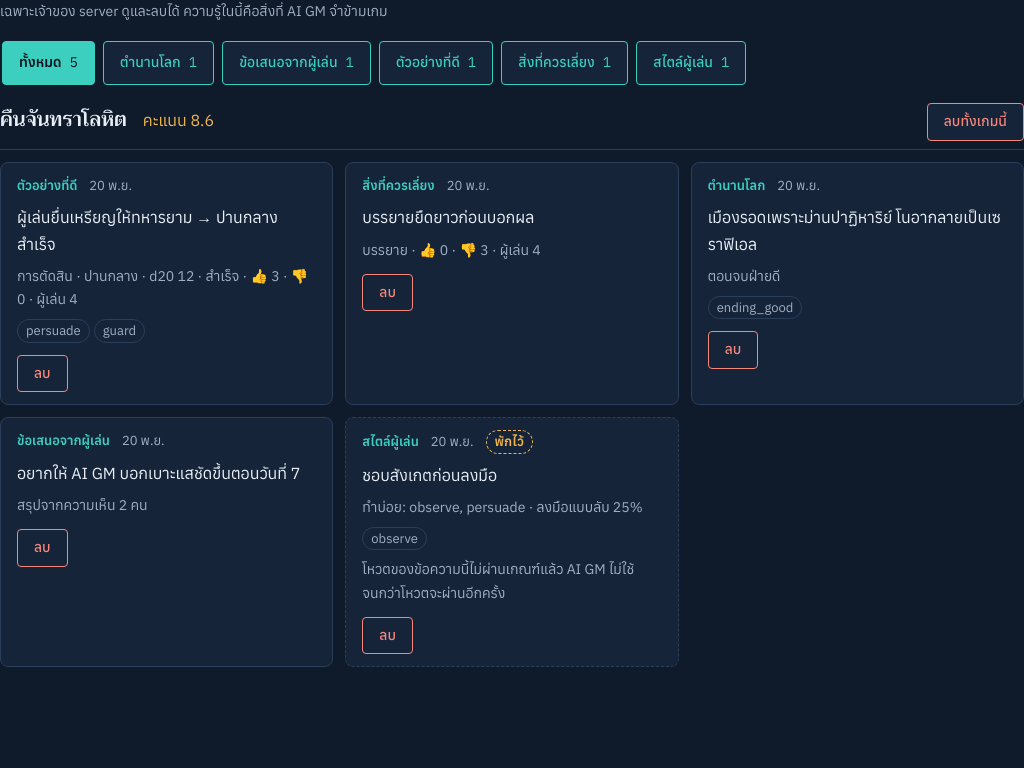
it: GEN-084 Learning library › C3: deleting one entry asks first, then deletes and shows what the server has left
Click the button "ลบ" below "guard": (42, 373) [17,354,68,392]
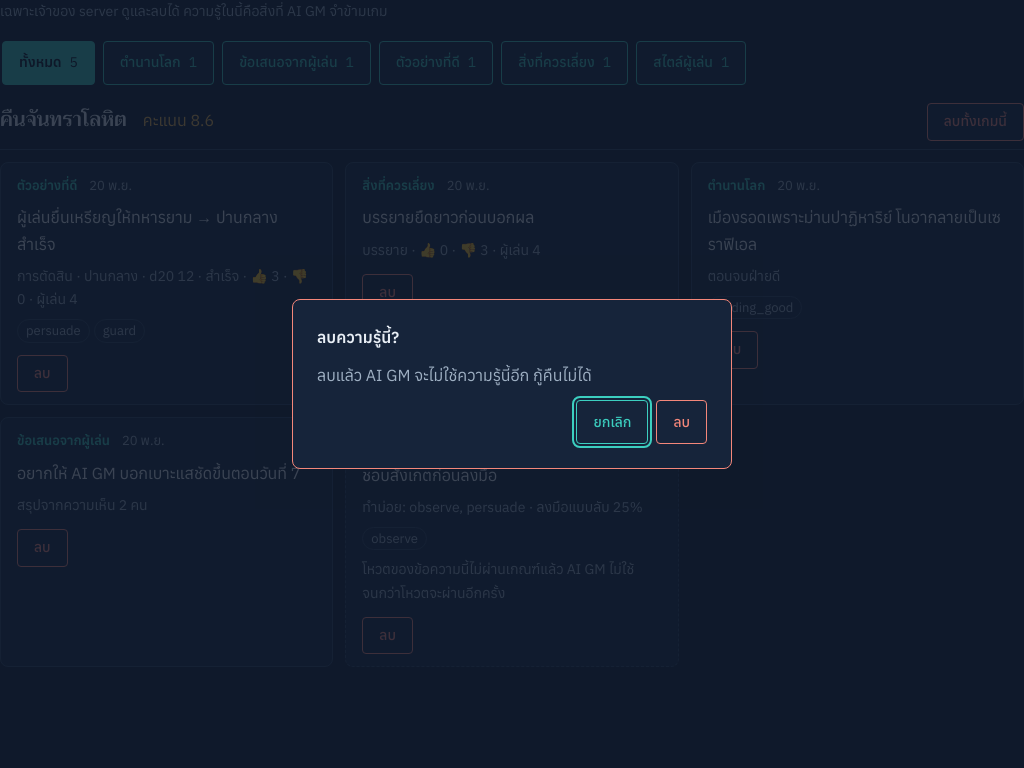
Check: the text "ลบแล้ว AI GM จะไม่ใช้ความรู้นี้อีก กู้คืนไม่ได้" is shown, box [317,365,592,385]
Click the button "ยกเลิก": (612, 422) [576,400,648,444]
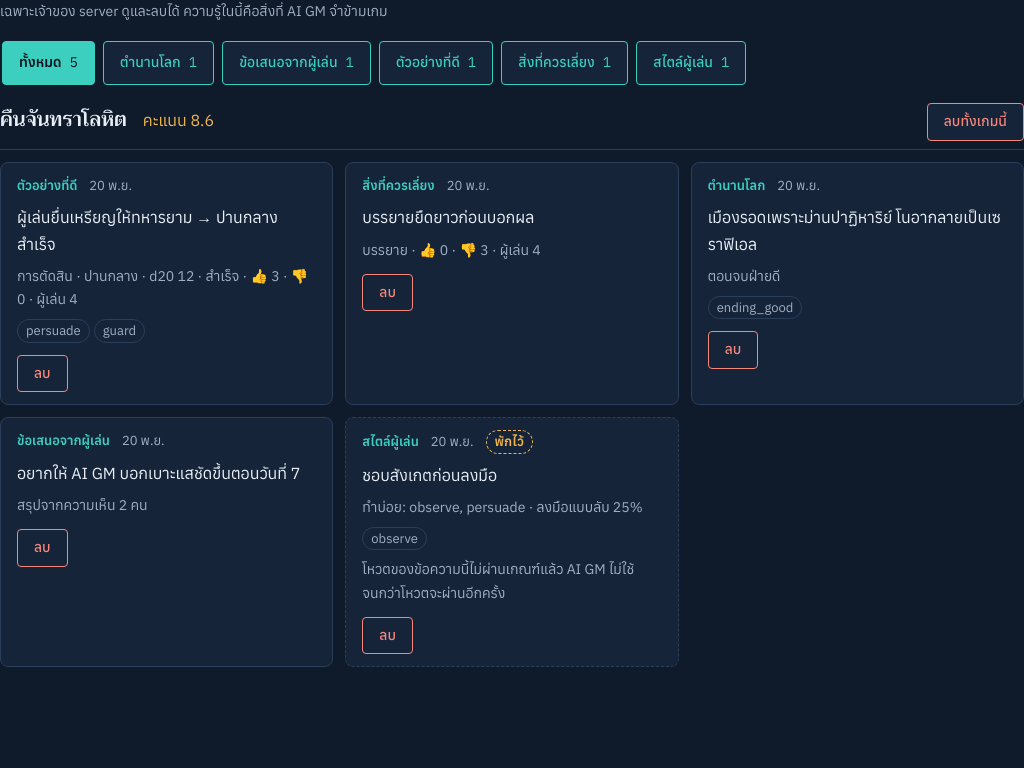
Check: the dialog is gone
Click the button "ลบ" below "guard": (42, 373) [17,354,68,392]
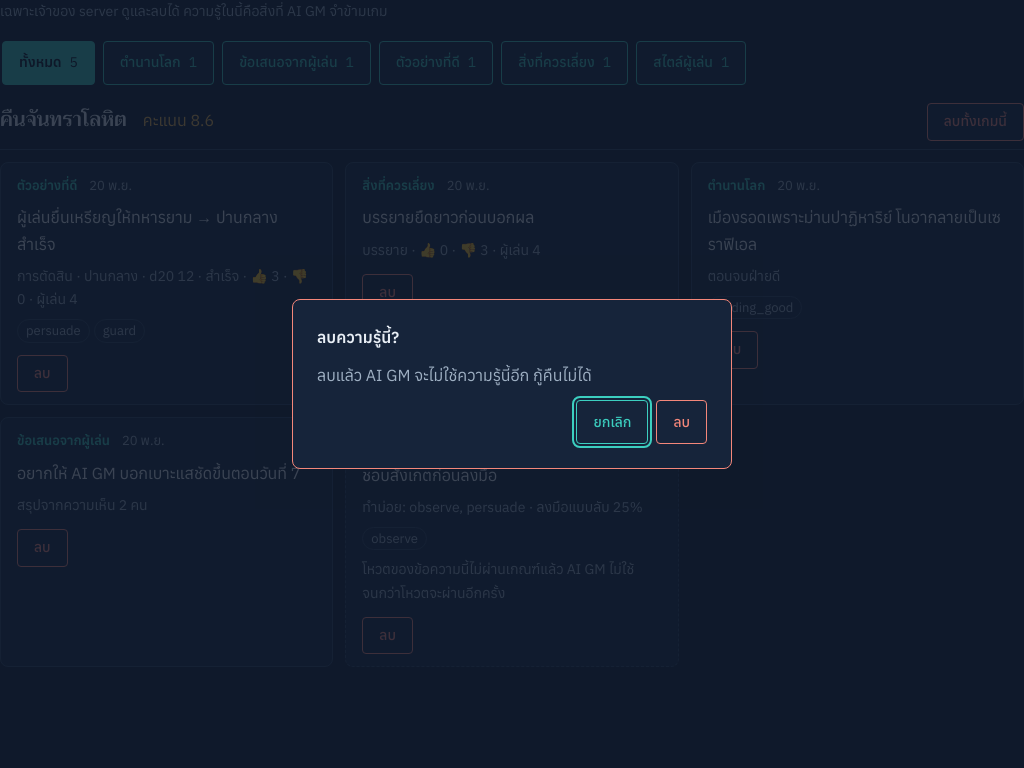
Click the button "ลบ": (682, 422) [656,400,707,444]
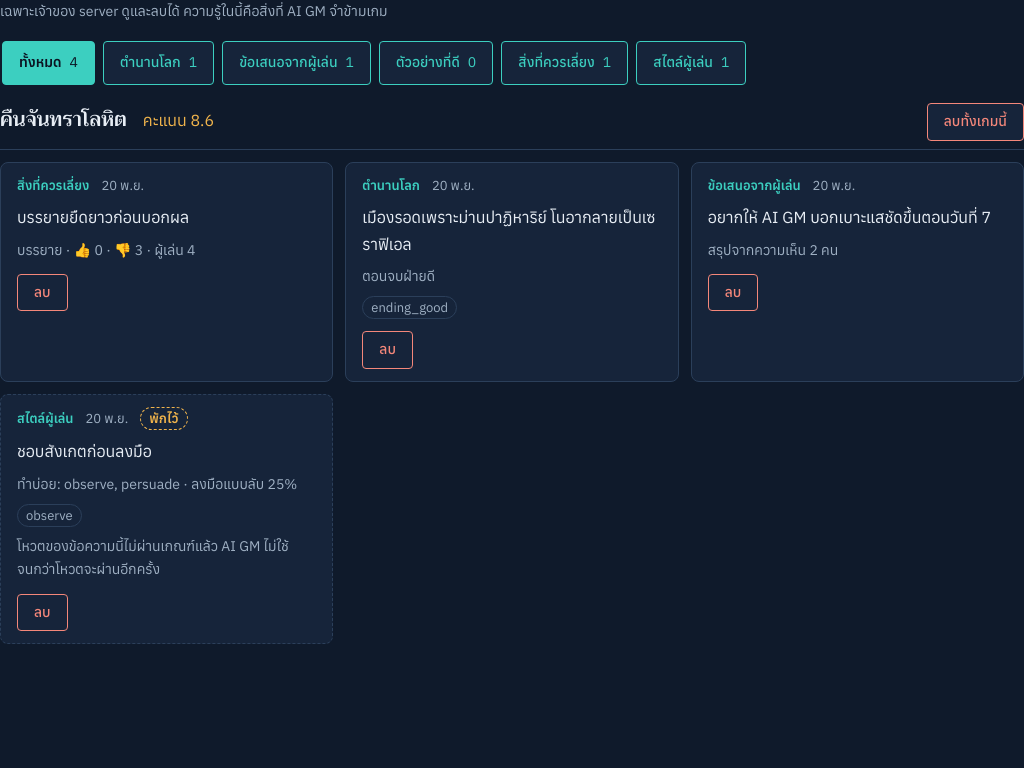
Check: the text "ชอบสังเกตก่อนลงมือ" is shown, box [17,442,152,462]
Check: the text "ผู้เล่นยื่นเหรียญให้ทหารยาม → ปานกลาง สำเร็จ" is gone
